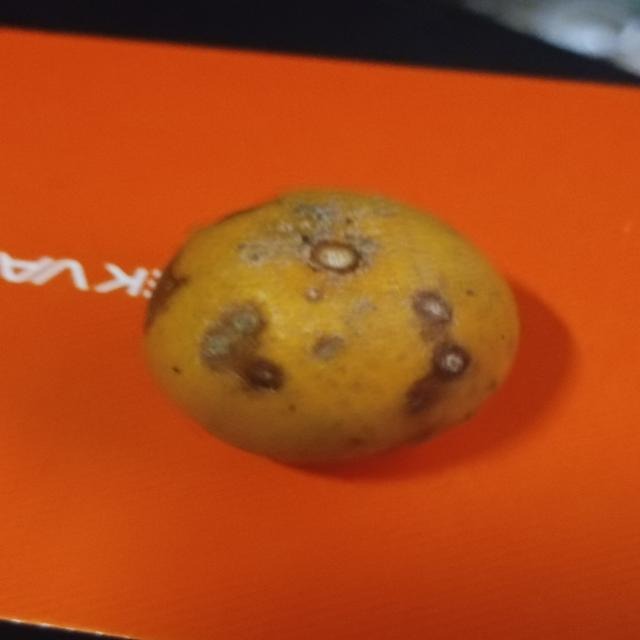black spot: (137, 188, 518, 464)
